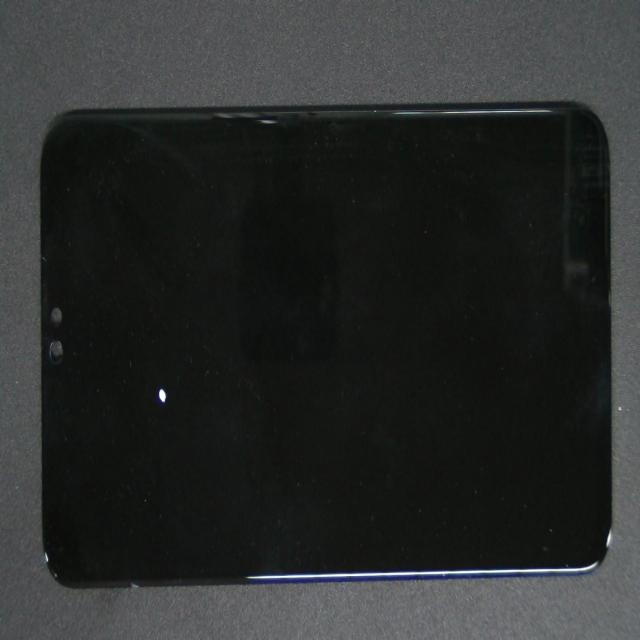stain: (87, 141, 226, 554)
